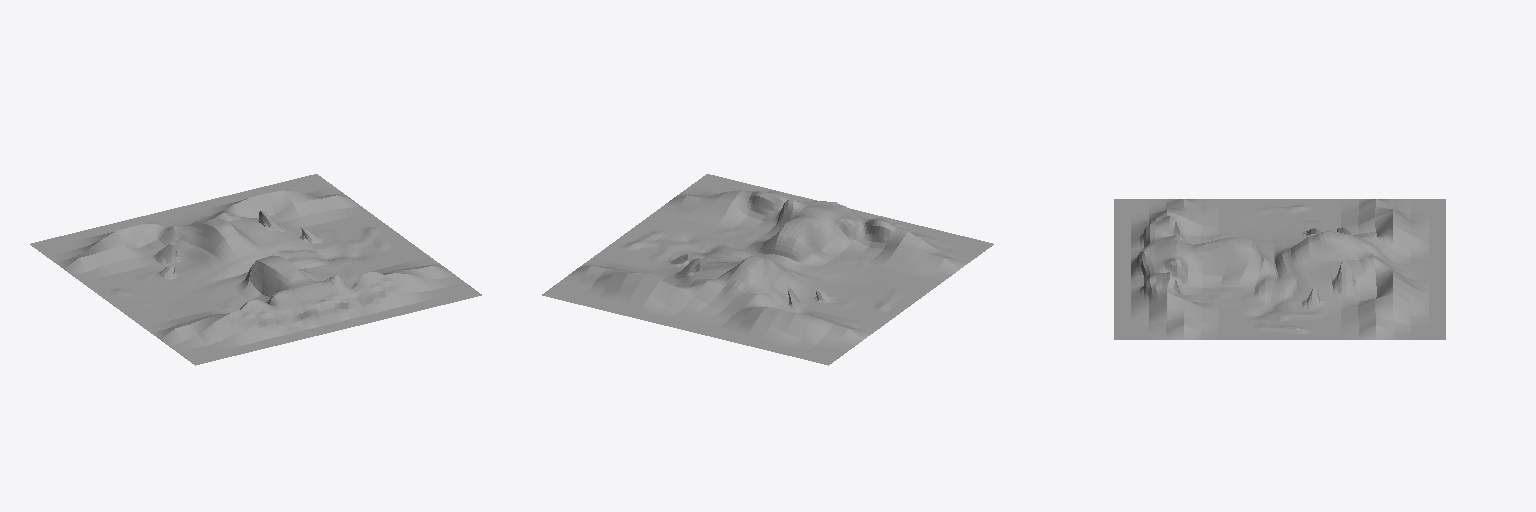
Rendered from terrain.obj.
3 renders of one model, left to right at view 1: azimuth 30°, elevation 25°; view 2: azimuth 150°, elevation 25°; view 3: azimuth 270°, elevation 25°, orthographic.
Parts seen in each view (by area): view 1: land_Grid; view 2: land_Grid; view 3: land_Grid.
Part boxes in pixels (left/top/right/bottom): land_Grid: left=30, top=174, right=481, bottom=365; land_Grid: left=542, top=174, right=993, bottom=365; land_Grid: left=1114, top=199, right=1445, bottom=339.
Size of the model in its own units: 21.52 by 2.43 by 21.52.